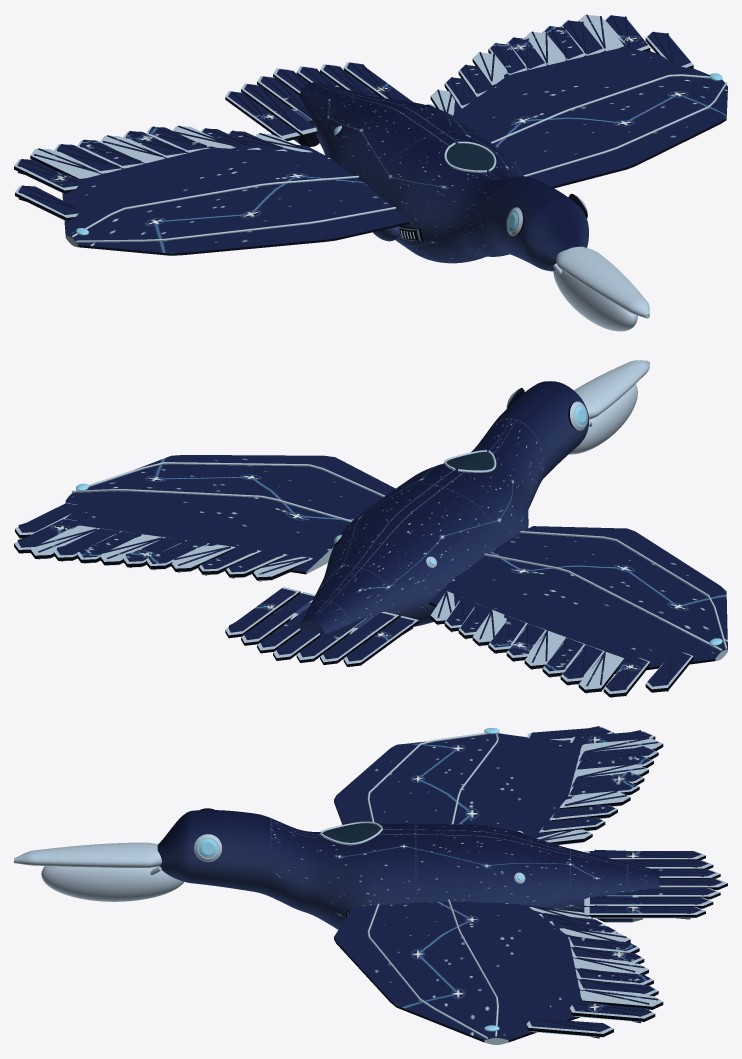
3 renders of one model, top to bottom at view 1: azimuth 30°, elevation 25°; view 2: azimuth 150°, elevation 25°; view 3: azimuth 270°, elevation 25°, orthographic. The views are drawn at different scales.
Visible parts, largest first — view 1: pelican_hull; view 2: pelican_hull; view 3: pelican_hull.
Part boxes in pixels (bbox=[...]): pelican_hull: bbox=[14, 14, 727, 331]; pelican_hull: bbox=[14, 360, 727, 697]; pelican_hull: bbox=[14, 726, 727, 1044].
Bounding box in the file's own units: 256 × 48.56 × 252.
Materials: 1 (1 with a texture image).
